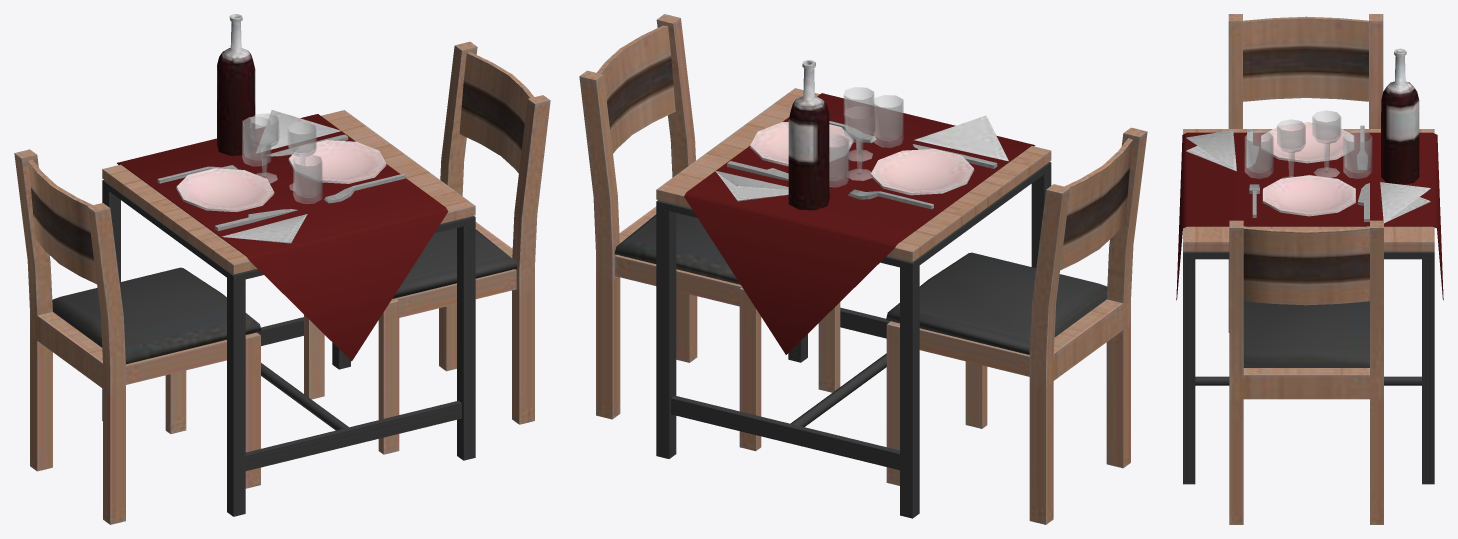
File: restaurant_table.glb
The picture shows the model from 3 angles, left to right: view 1: azimuth 30°, elevation 25°; view 2: azimuth 150°, elevation 25°; view 3: azimuth 270°, elevation 25°; orthographic projection. The views are drawn at different scales.
Parts seen in each view (by area): view 1: chaise_neo, nappe, chaise_neo_1, table_pour_2, couvers_1, verres; view 2: chaise_neo, chaise_neo_1, nappe, table_pour_2, couvers_1, verres; view 3: chaise_neo_1, couvers_1, nappe, chaise_neo, table_pour_2, verres.
Part boxes in pixels (x1,y1,x2,y2): chaise_neo: (14,149,261,524); nappe: (117,114,448,361); chaise_neo_1: (304,41,550,454); table_pour_2: (102,110,475,516); couvers_1: (157,14,405,243); verres: (242,113,322,203); chaise_neo: (886,127,1147,524); chaise_neo_1: (579,14,840,451); nappe: (684,93,1034,354); table_pour_2: (656,88,1051,518); couvers_1: (715,60,1008,210); verres: (829,87,903,187); chaise_neo_1: (1229,220,1383,524); couvers_1: (1186,48,1430,223); nappe: (1176,132,1443,300); chaise_neo: (1228,14,1383,332); table_pour_2: (1183,129,1434,484); verres: (1244,110,1372,178).
Size of the model in its own units: 152 by 123 by 79.55.
5 materials, 3 textured.
